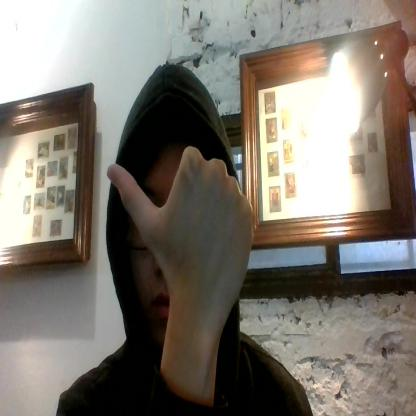right: (105, 143, 255, 308)
